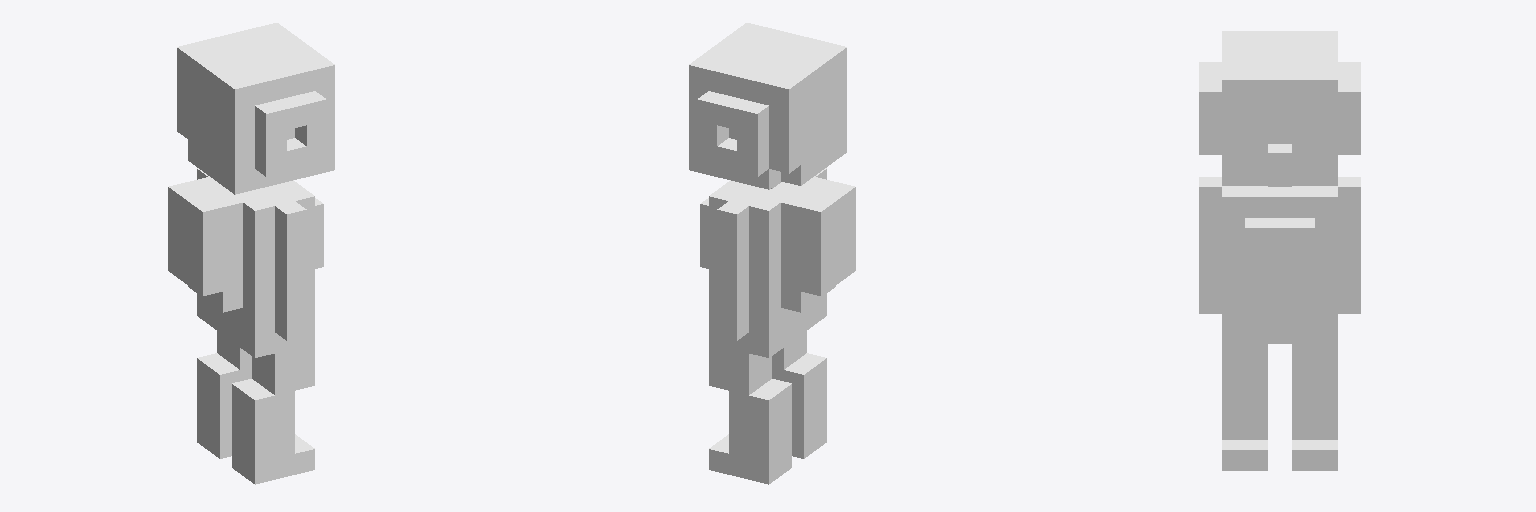
File: Female2.1.obj
3 views of the same model, side by side, from view 1: azimuth 30°, elevation 25°; view 2: azimuth 150°, elevation 25°; view 3: azimuth 270°, elevation 25° (orthographic).
Parts seen in each view (by area): view 1: Female2.1; view 2: Female2.1; view 3: Female2.1.
Boxes of the visible parts, box(x1,y1,x2,y2) form: Female2.1: box(168, 23, 334, 484); Female2.1: box(689, 23, 855, 484); Female2.1: box(1199, 31, 1360, 470).
Size of the model in its own units: 7 by 19 by 7.